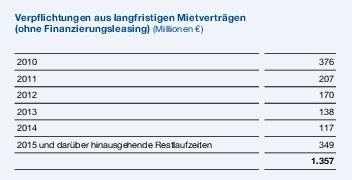table: (0, 0, 352, 180)
